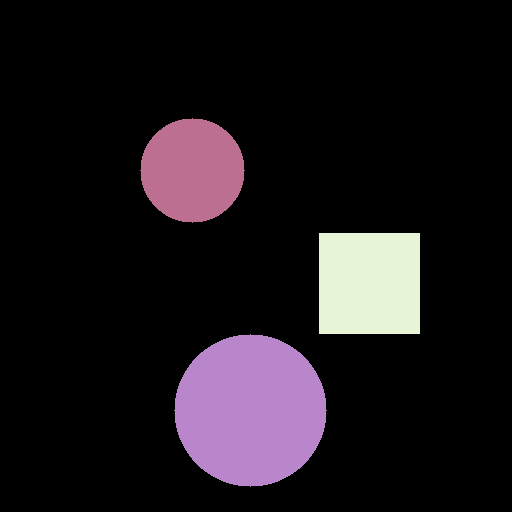circle: (174, 334, 326, 486), (140, 118, 244, 222)
square: (319, 233, 419, 333)
